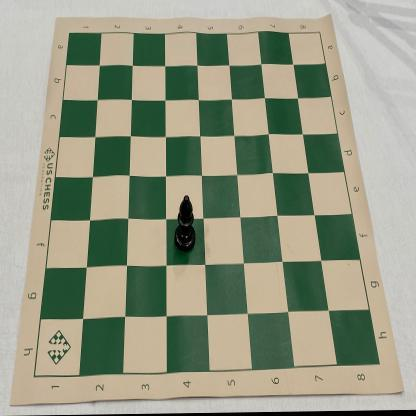black-bishop: (174, 195, 197, 253)
